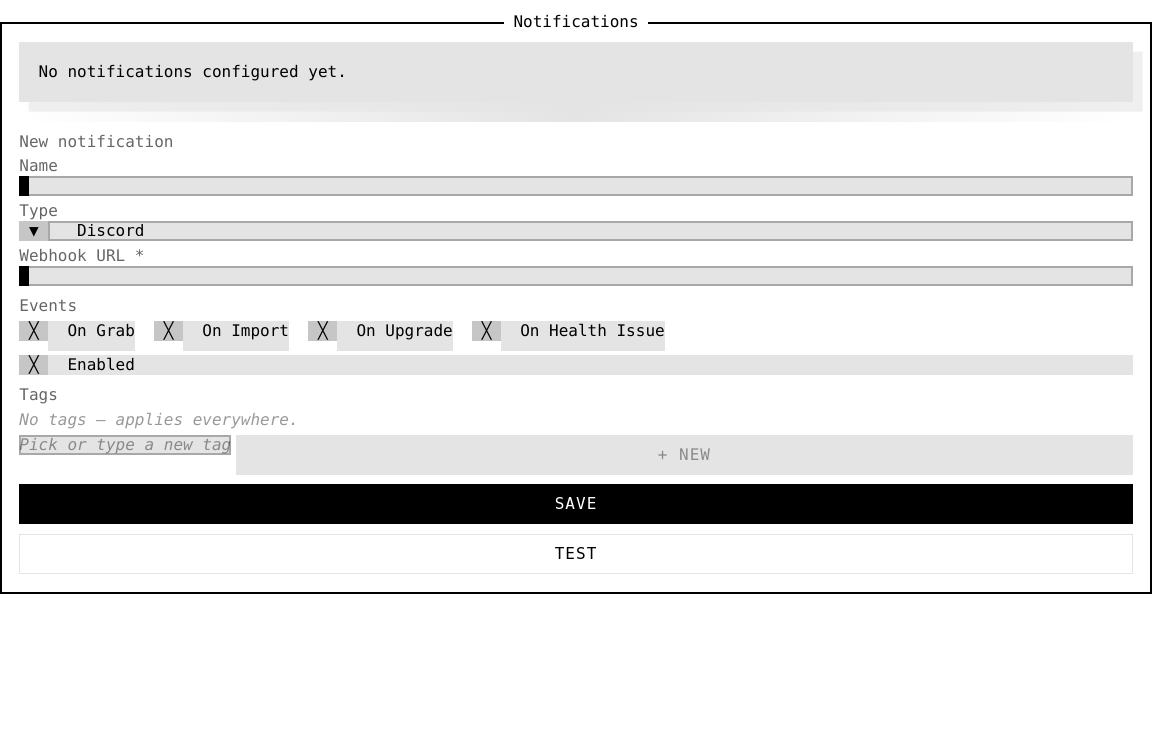
Scenario: Notifications settings › hits /api/v3/notification/test when Test is clicked
Type "Probe" into the field named "Name". click: (576, 186)
box: 19,176 -> 1133,196
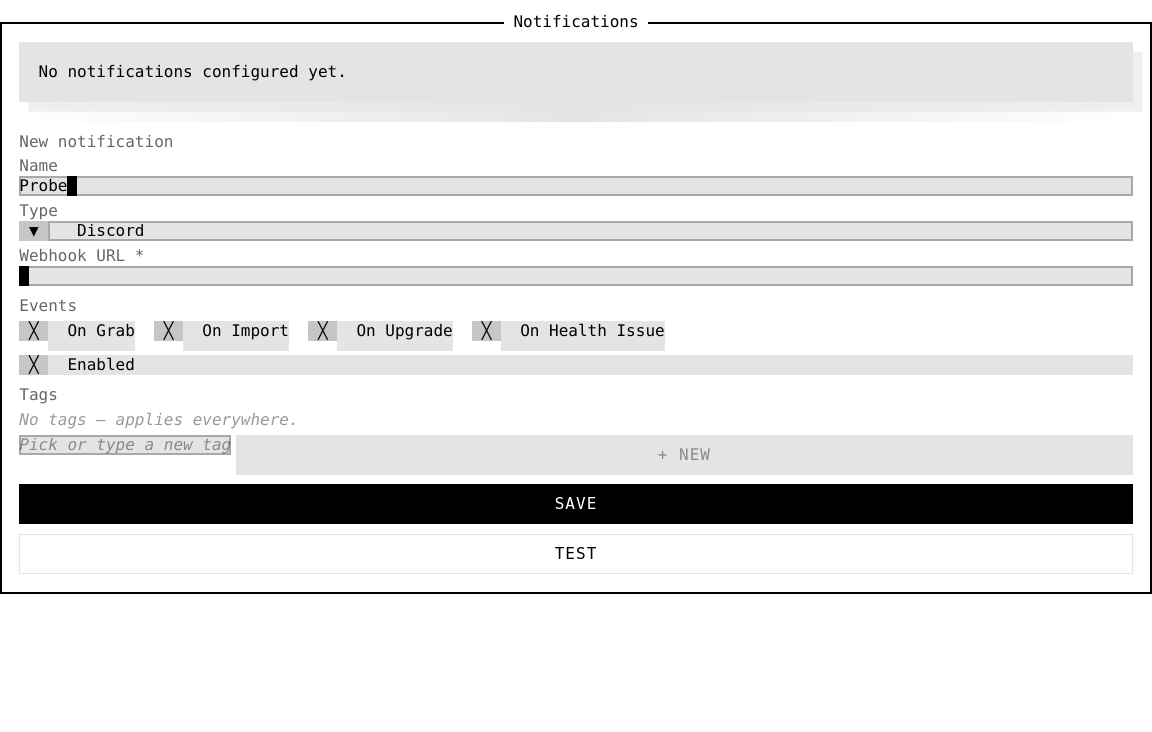
Click the button "Test". click: (576, 554)
box: 19,534 -> 1133,574
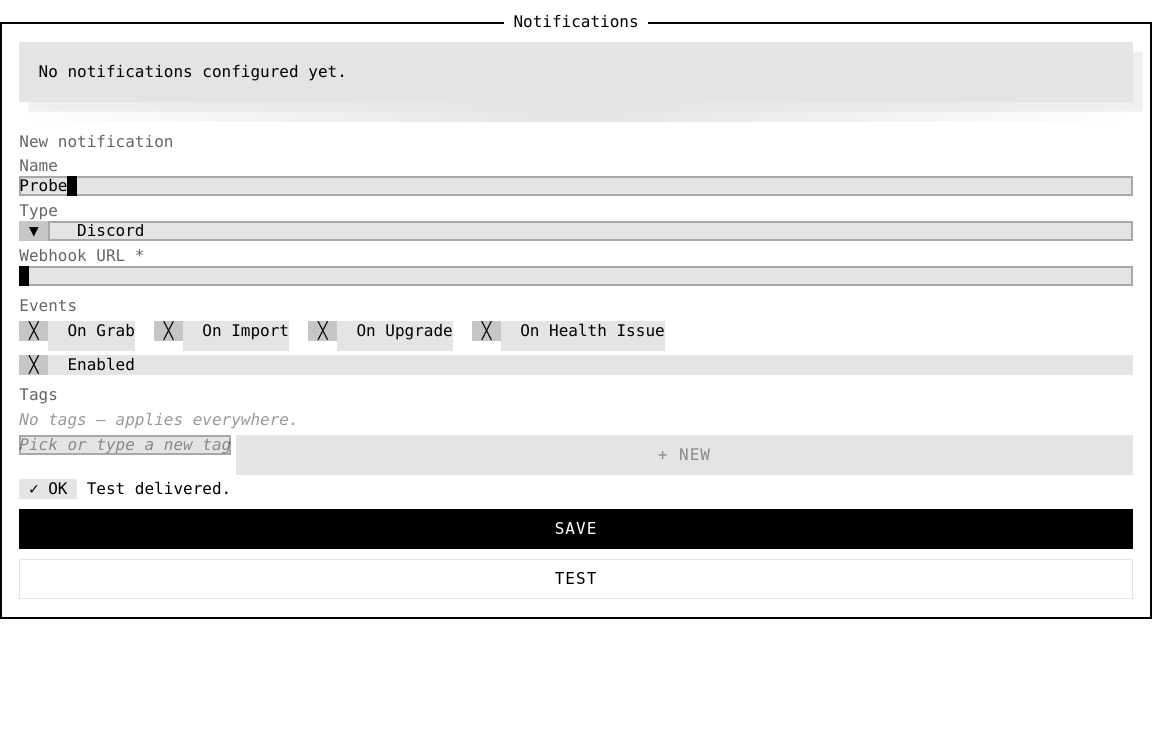
Expected: the text "✓ ok Test delivered." is shown, 19,479 -> 231,499
